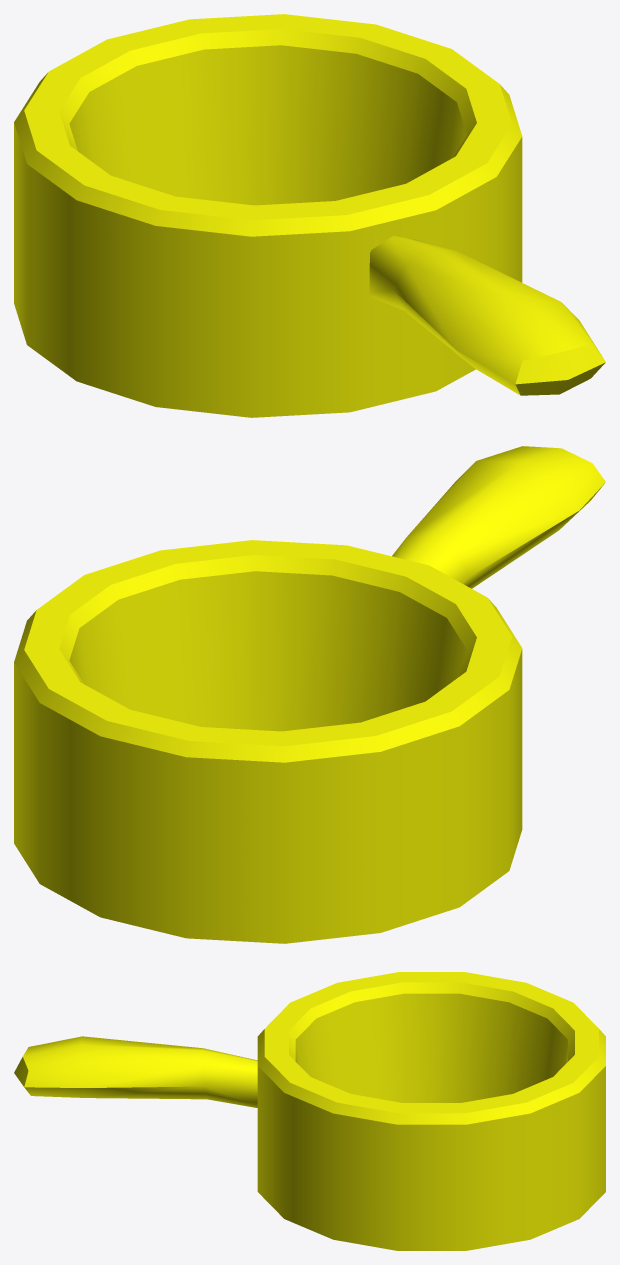
The model's file is pan_006.gltf.
3 renders of one model, top to bottom at view 1: azimuth 30°, elevation 25°; view 2: azimuth 150°, elevation 25°; view 3: azimuth 270°, elevation 25°, orthographic. The views are drawn at different scales.
Visible parts, largest first — view 1: pan.006; view 2: pan.006; view 3: pan.006.
Part boxes in pixels (<box>): pan.006: <box>14,14,605,417</box>; pan.006: <box>14,446,605,943</box>; pan.006: <box>14,972,605,1250</box>.
Bounding box in the file's own units: 0.75 × 0.35 × 1.28.
Materials: 1 (1 with a texture image).
